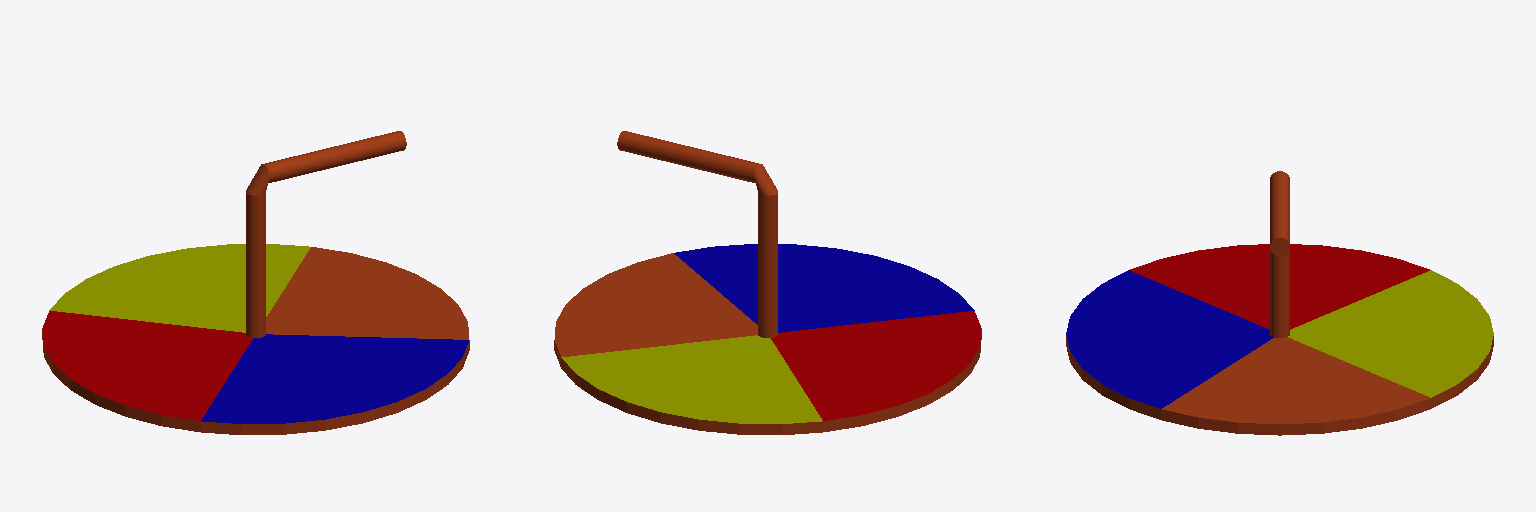
Rendered from spinner.obj.
The picture shows the model from 3 angles: view 1: azimuth 30°, elevation 25°; view 2: azimuth 150°, elevation 25°; view 3: azimuth 270°, elevation 25°; orthographic projection.
Visible parts, largest first — view 1: Cylinder; view 2: Cylinder; view 3: Cylinder.
Boxes of the visible parts, <box> form: Cylinder: <box>42,131,469,434</box>; Cylinder: <box>554,131,981,434</box>; Cylinder: <box>1066,171,1493,435</box>.
Size of the model in its own units: 2 by 0.9194 by 2.